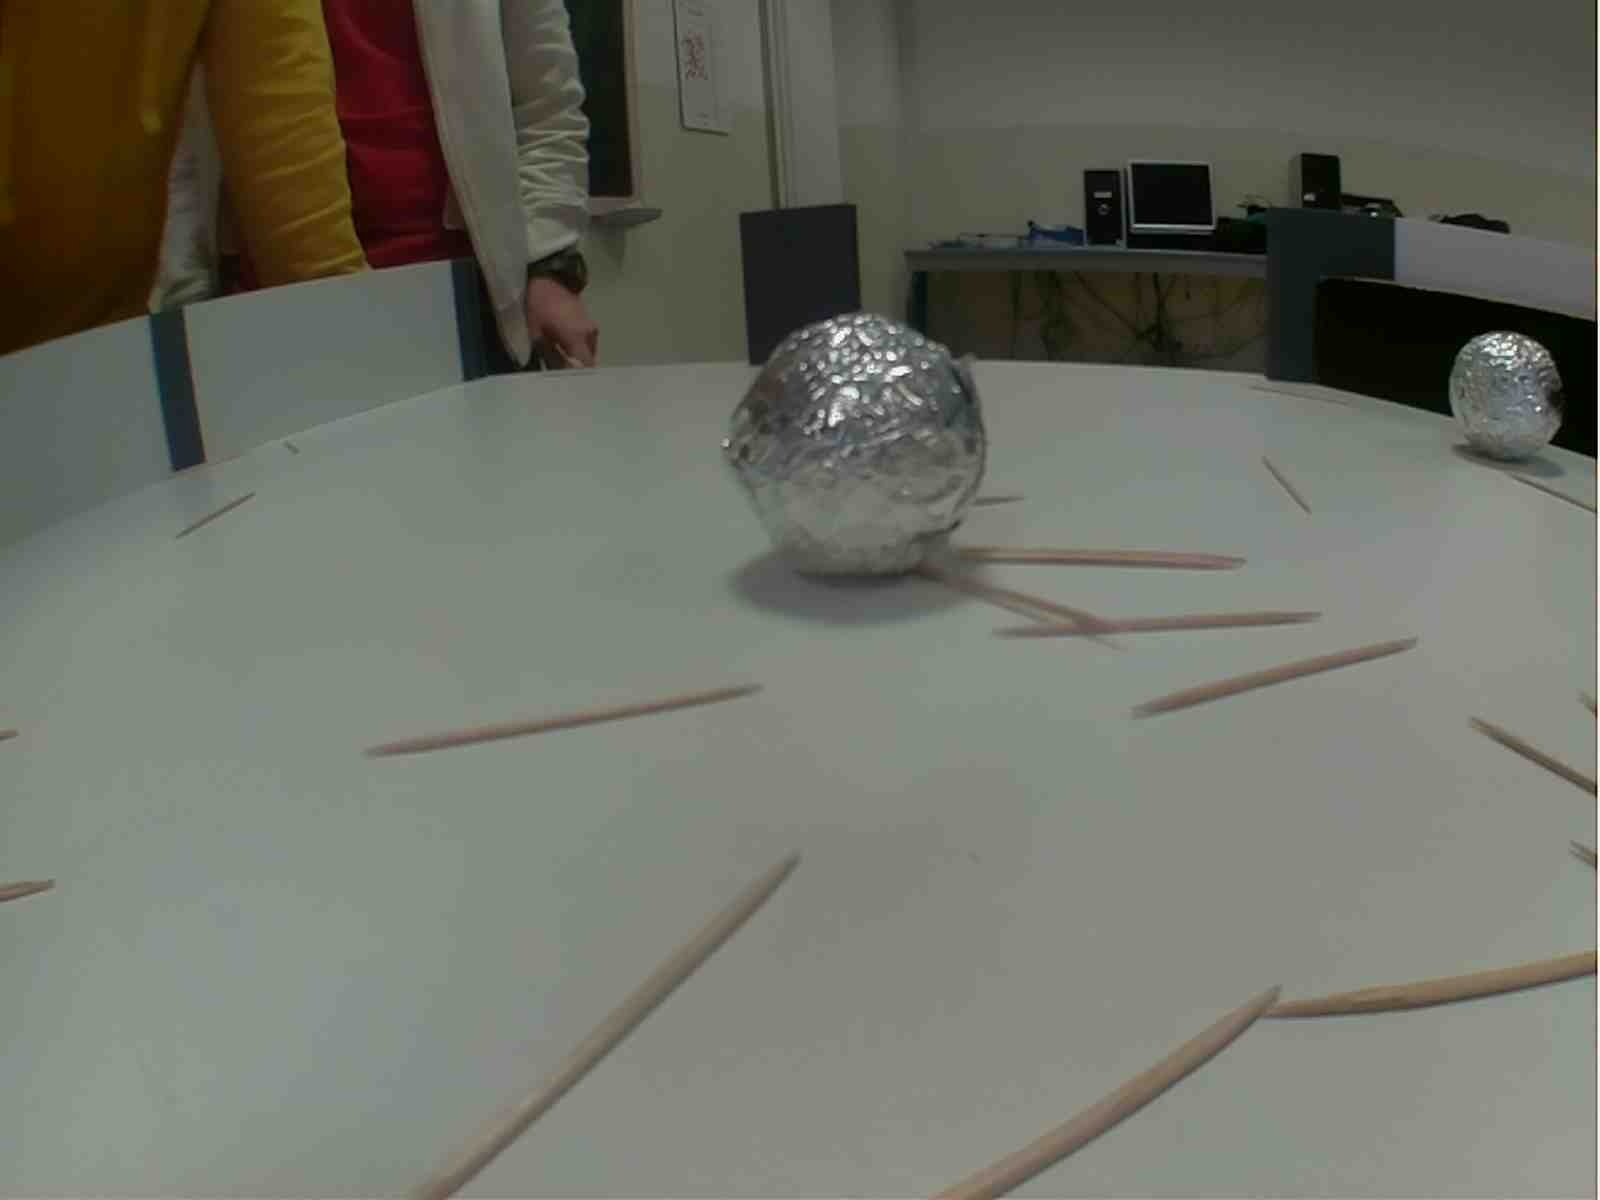bianca: (721, 316, 990, 580), (1448, 321, 1563, 466)
